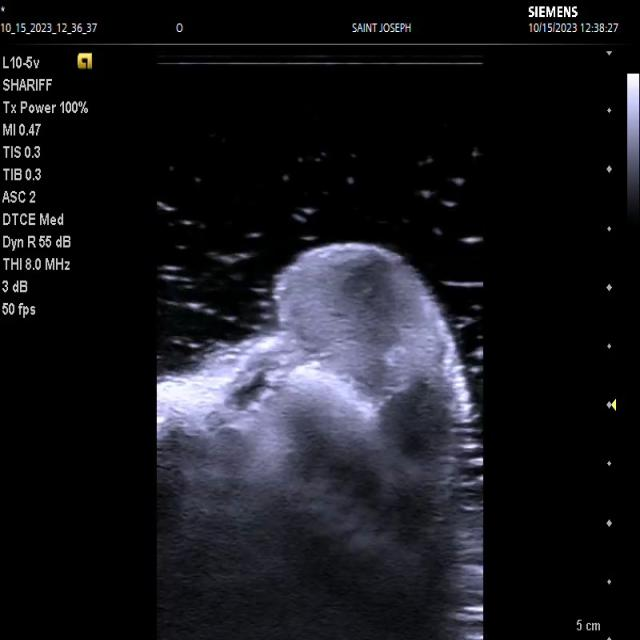tissue: (158, 243, 469, 640)
